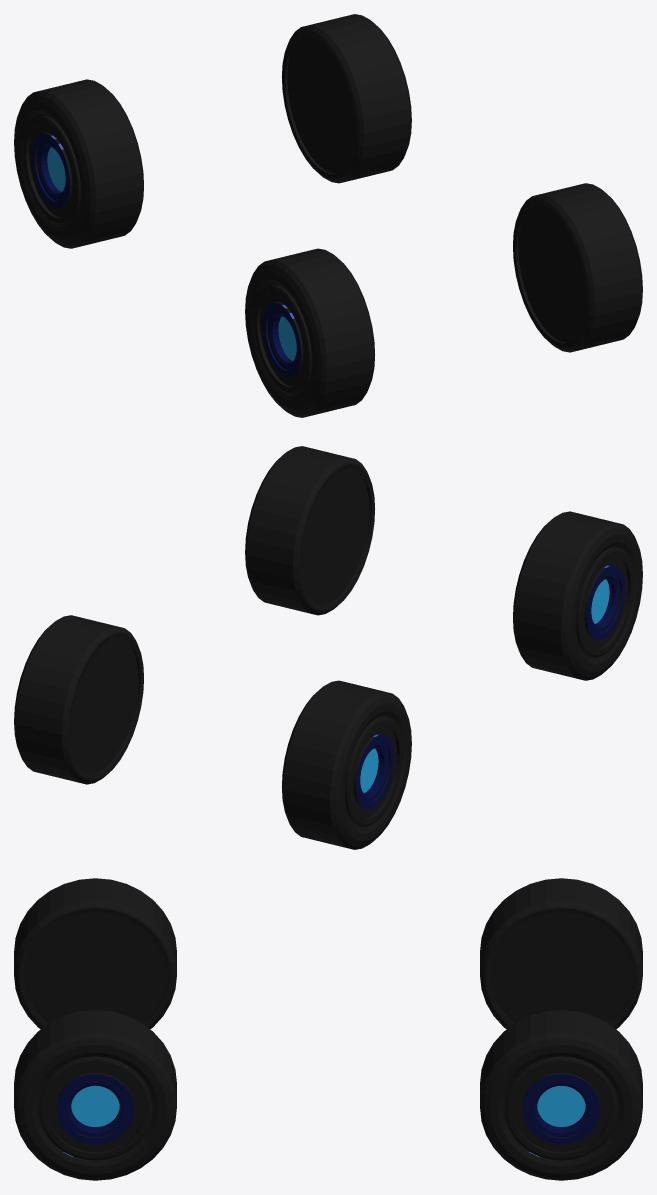
Rendered from carte.fbx.
The picture shows the model from 3 angles, top to bottom: view 1: azimuth 30°, elevation 25°; view 2: azimuth 150°, elevation 25°; view 3: azimuth 270°, elevation 25°; orthographic projection.
Visible parts, largest first — view 1: RFD, RIE, RFE, RID; view 2: RFE, RID, RFD, RIE; view 3: RFD, RID, RFE, RIE.
Boxes of the visible parts, left/top/right/bottom form: RFD: left=282, top=14, right=411, bottom=183; RIE: left=245, top=248, right=374, bottom=417; RFE: left=14, top=79, right=143, bottom=248; RID: left=513, top=183, right=642, bottom=352; RFE: left=282, top=680, right=411, bottom=849; RID: left=245, top=446, right=374, bottom=615; RFD: left=14, top=615, right=143, bottom=784; RIE: left=513, top=511, right=642, bottom=680; RFD: left=480, top=1010, right=642, bottom=1180; RID: left=14, top=1010, right=176, bottom=1180; RFE: left=480, top=878, right=642, bottom=1029; RIE: left=14, top=878, right=176, bottom=1029.
Size of the model in its own units: 465 by 200 by 771.
